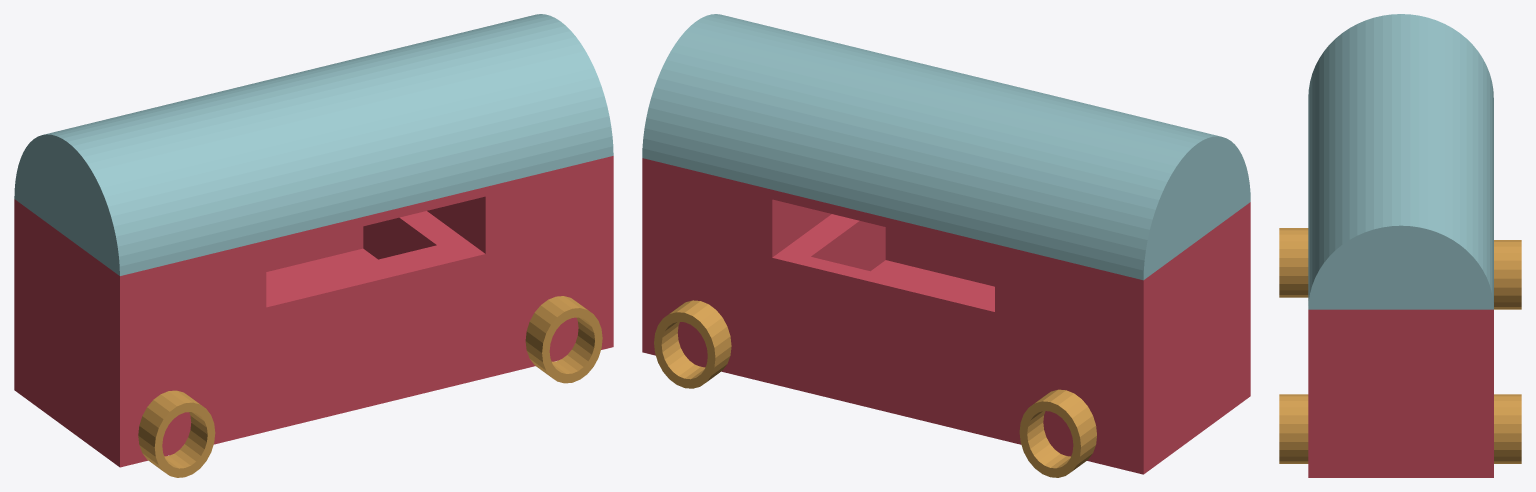
The model's file is Train.glb.
3 views of the same model, side by side, from view 1: azimuth 30°, elevation 25°; view 2: azimuth 150°, elevation 25°; view 3: azimuth 270°, elevation 25° (orthographic). The views are drawn at different scales.
Parts seen in each view (by area): view 1: Mesh_Mesh_head_geo.001_lambert2SG.001; view 2: Mesh_Mesh_head_geo.001_lambert2SG.001; view 3: Mesh_Mesh_head_geo.001_lambert2SG.001.
Boxes of the visible parts, x1,y1,x2,y2 form: Mesh_Mesh_head_geo.001_lambert2SG.001: (14, 14, 613, 477); Mesh_Mesh_head_geo.001_lambert2SG.001: (642, 14, 1250, 477); Mesh_Mesh_head_geo.001_lambert2SG.001: (1279, 14, 1521, 477).
Bounding box in the file's own units: 54 × 31 × 26.12.
